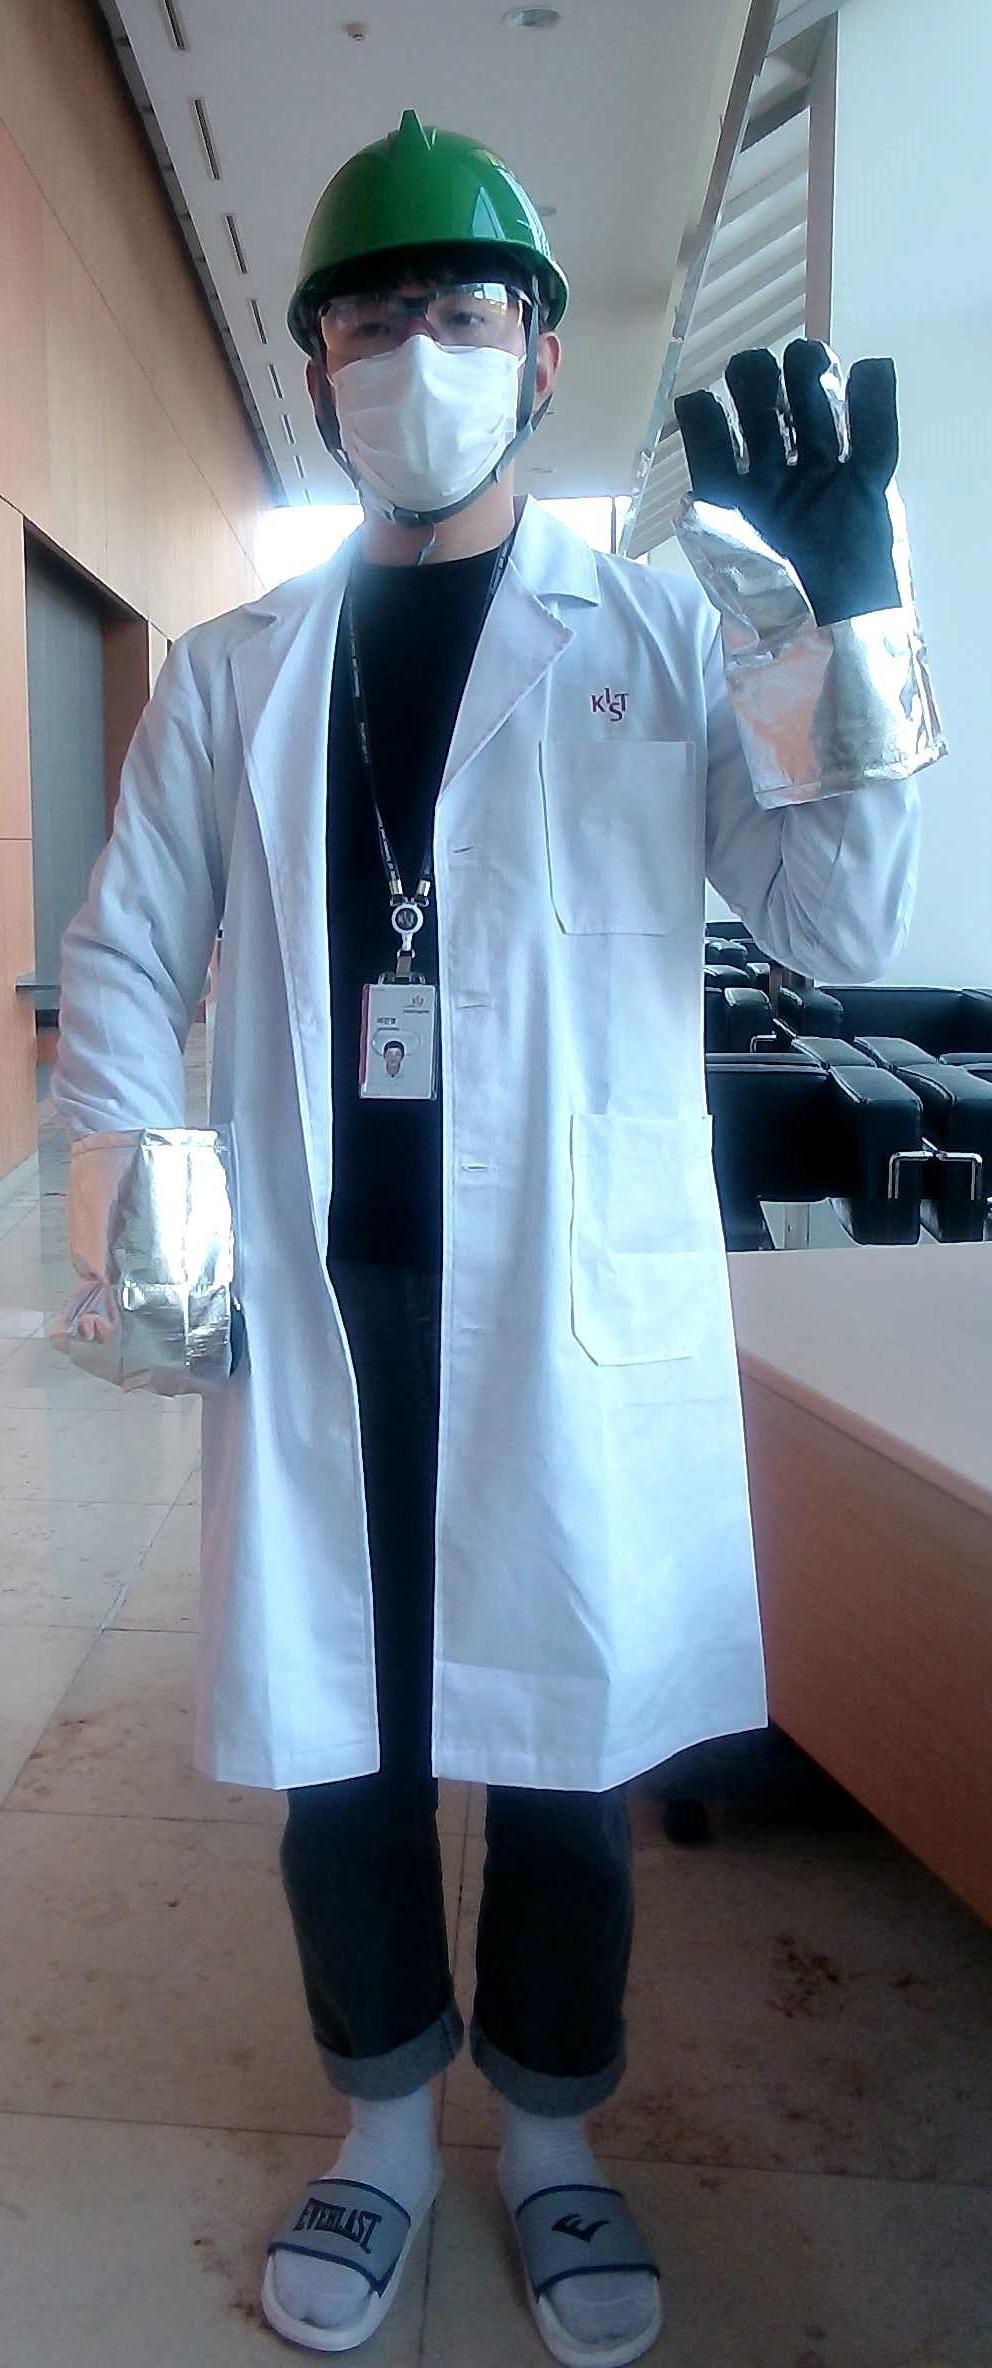lab_coat: (226, 607, 753, 1753)
